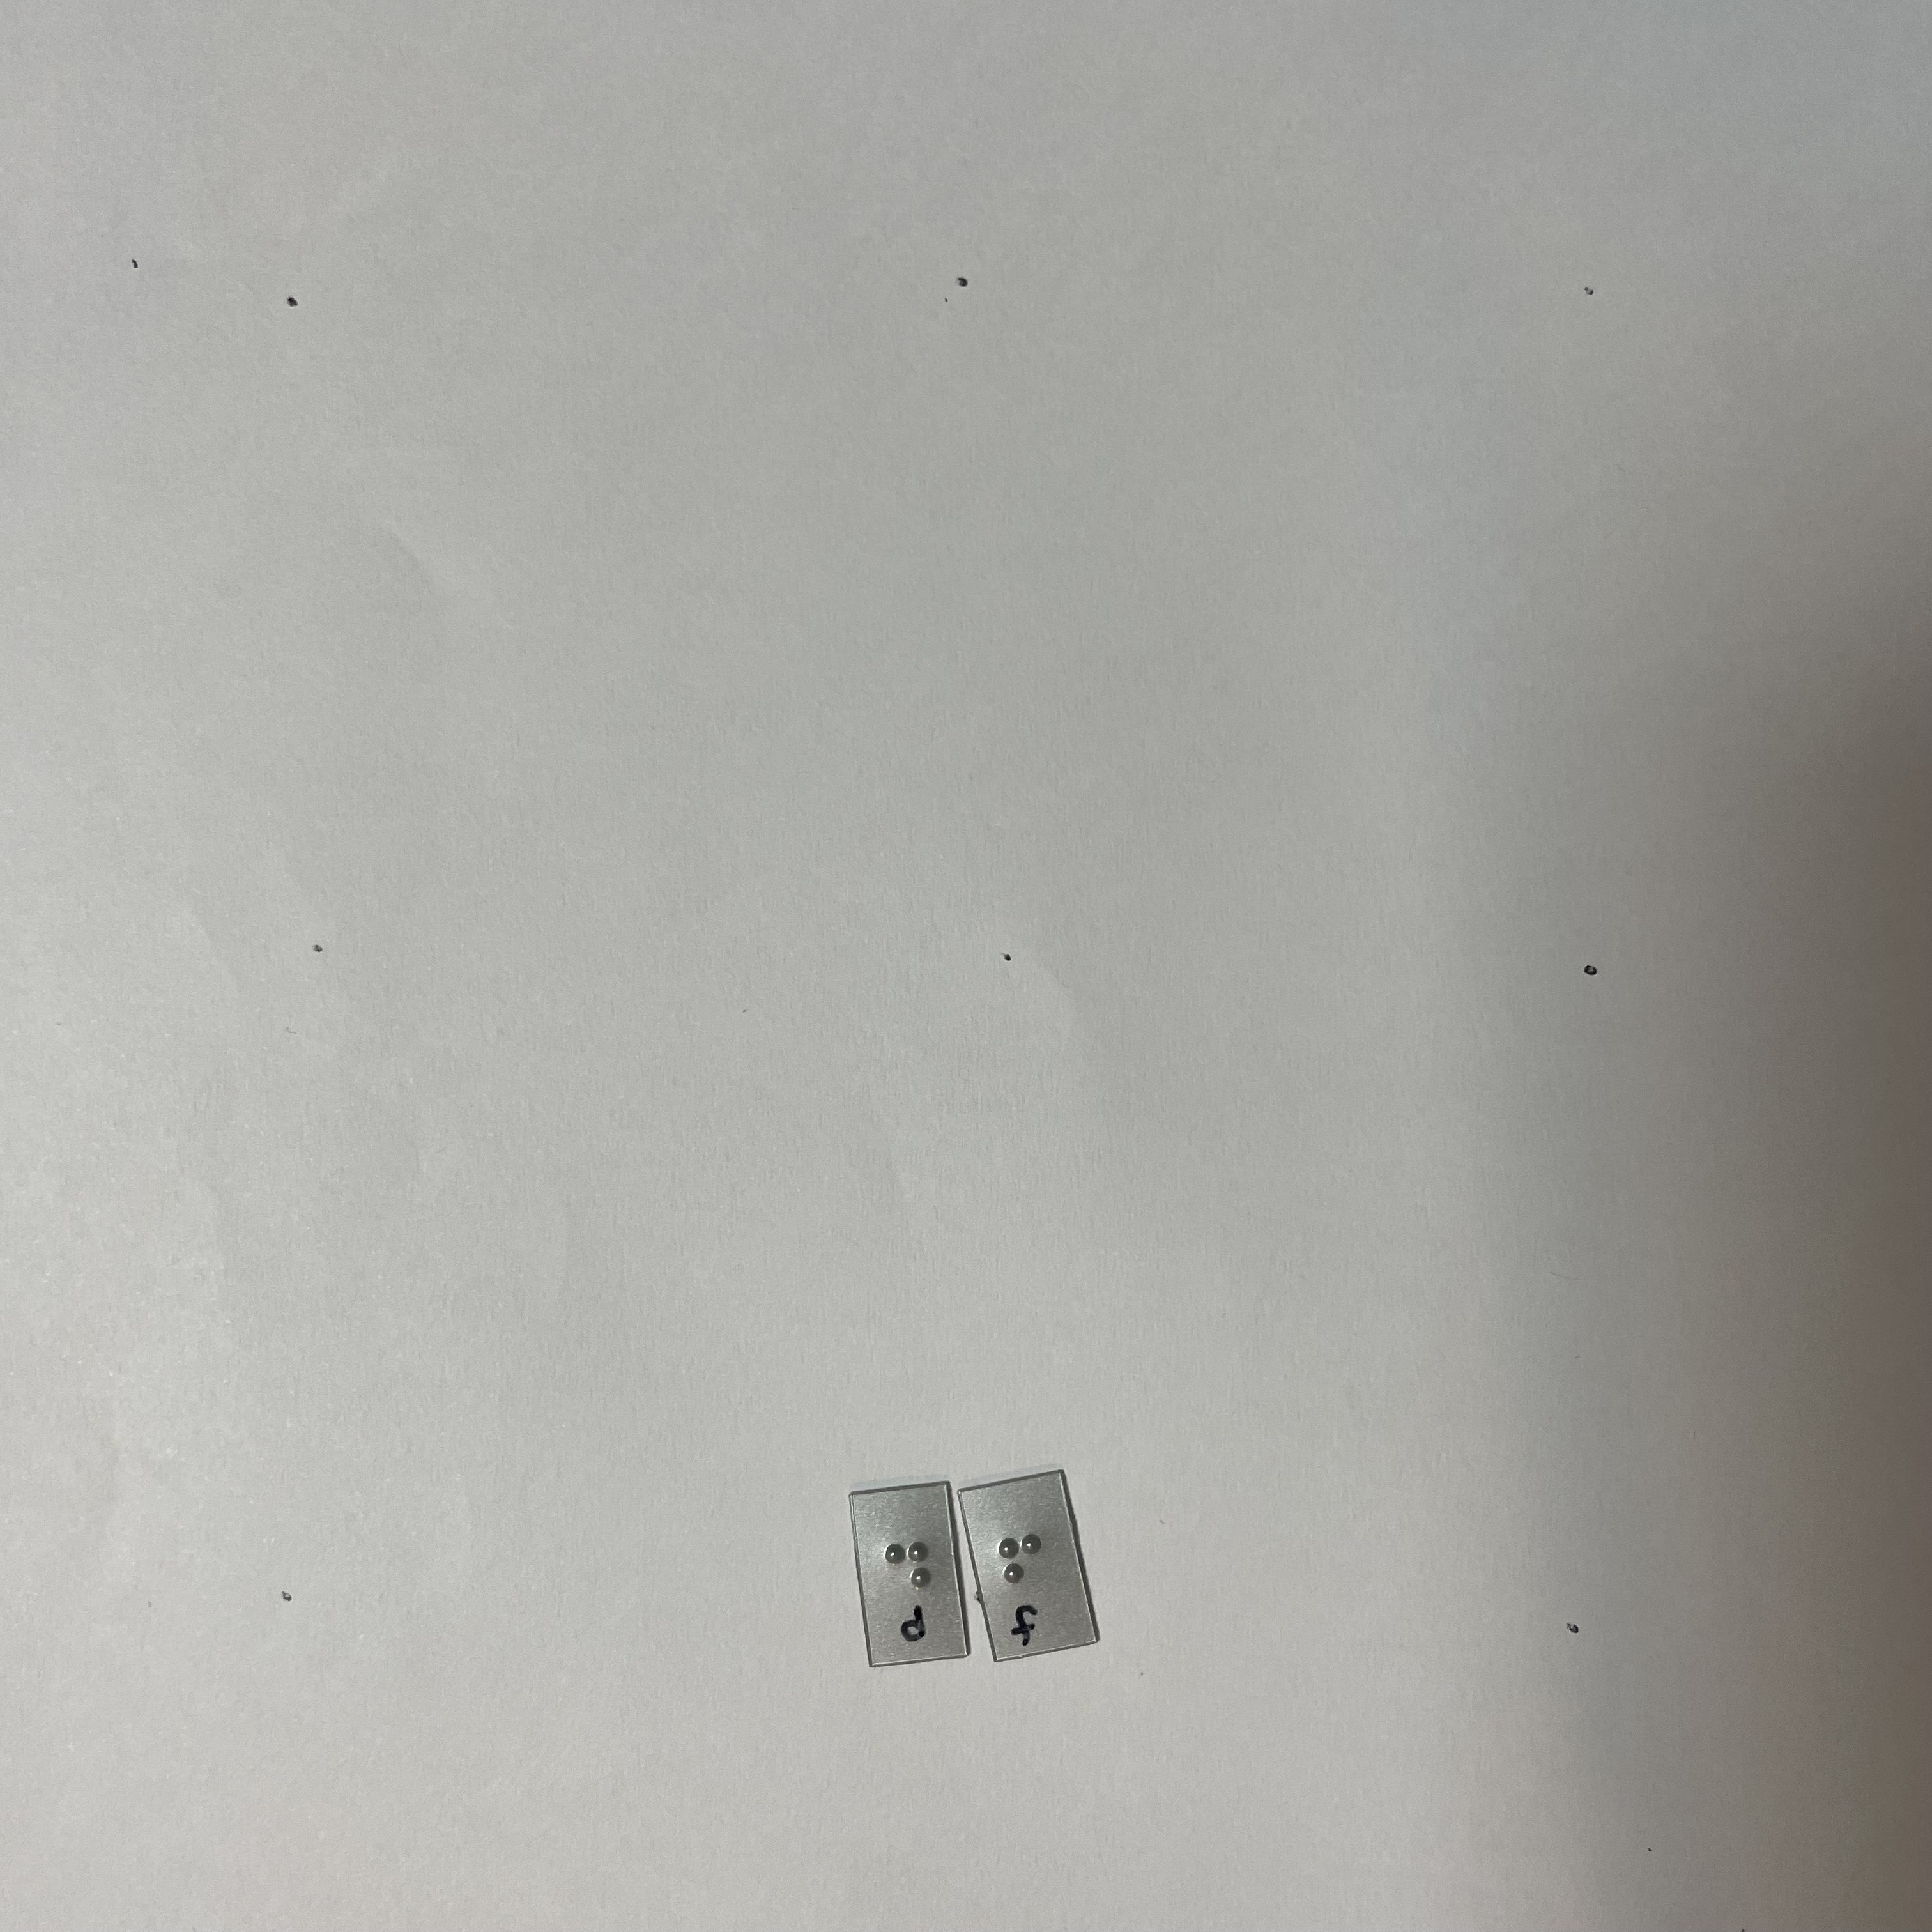d: (880, 1529, 939, 1604)
f: (999, 1522, 1058, 1599)
